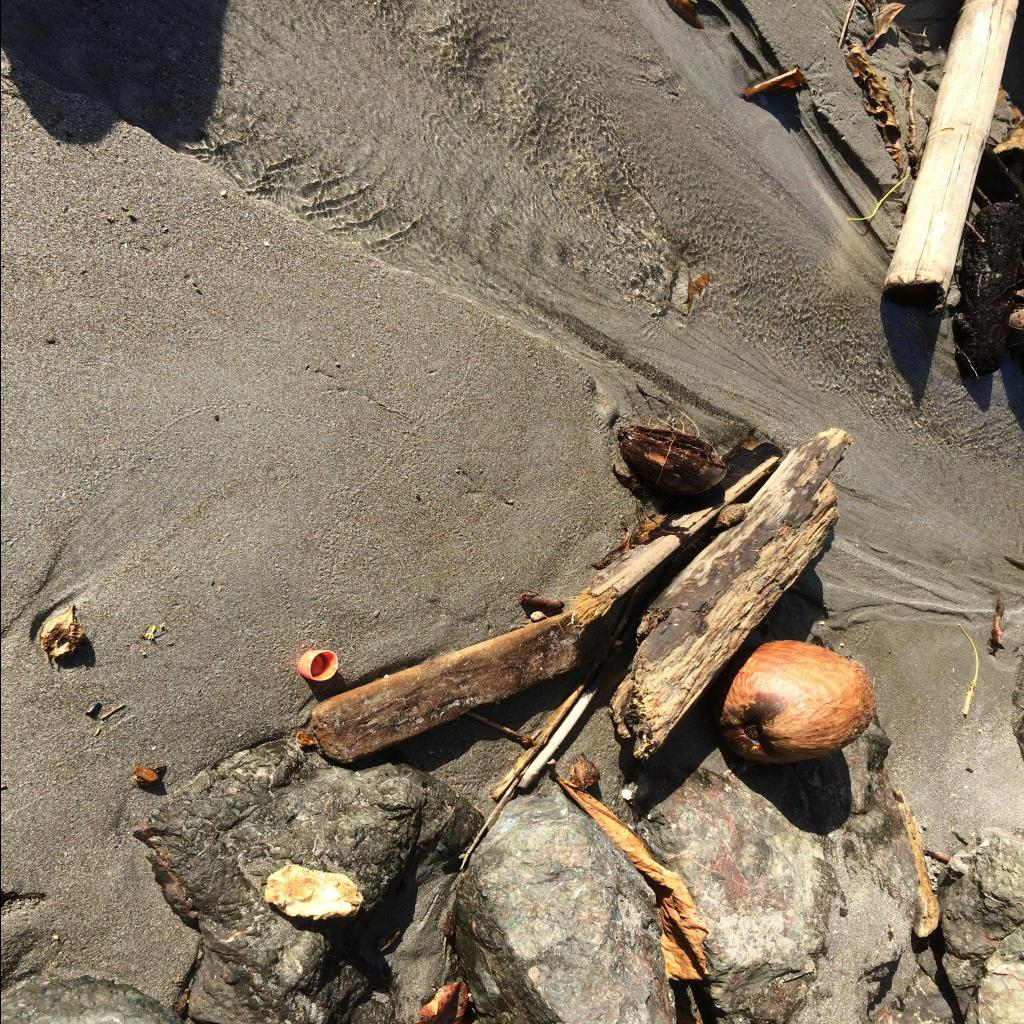Plastic bottle cap: (297, 650, 337, 681)
